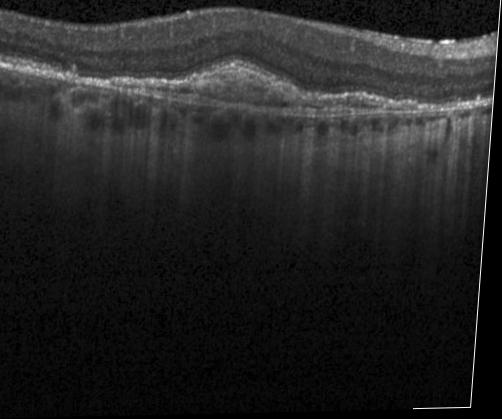subretinal_hyperreflective_material: (112, 61, 444, 114)
